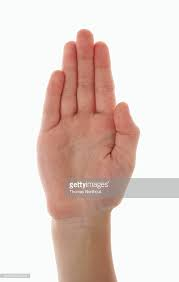hand: (30, 20, 143, 217)
